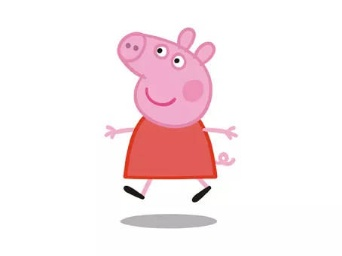Peppa: (100, 27, 240, 205)
